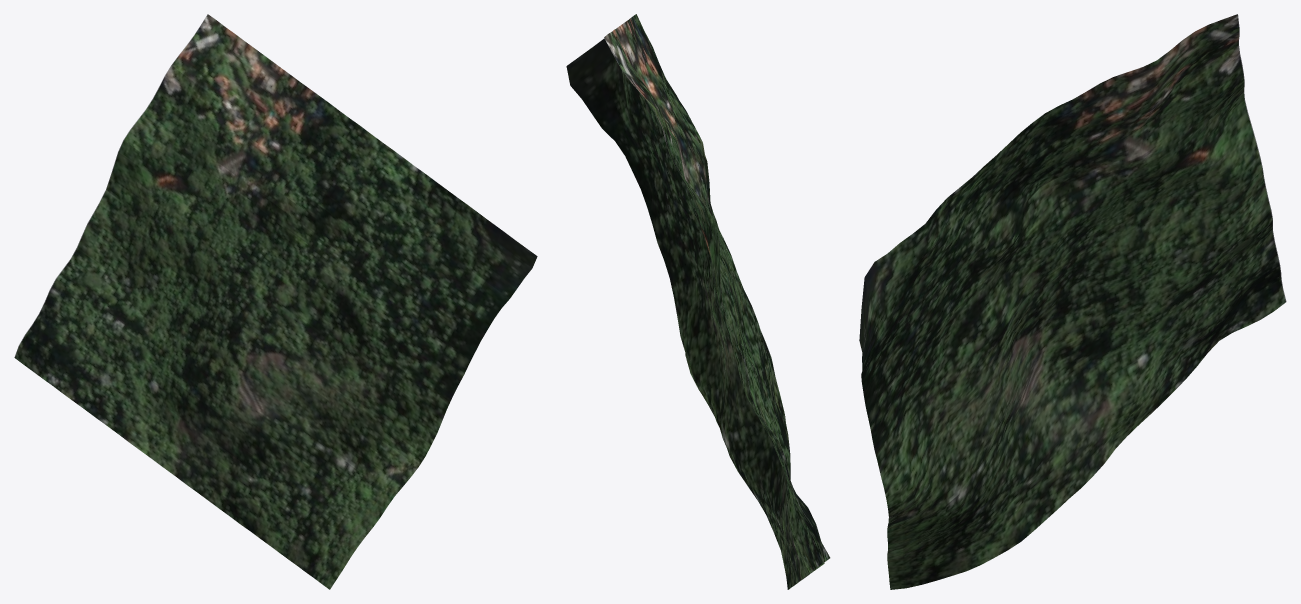
3 views of the same model, side by side, from view 1: azimuth 30°, elevation 25°; view 2: azimuth 150°, elevation 25°; view 3: azimuth 270°, elevation 25° (orthographic). The views are drawn at different scales.
Size of the model in its own units: 585 by 746 by 492.
1 material, 1 textured.
